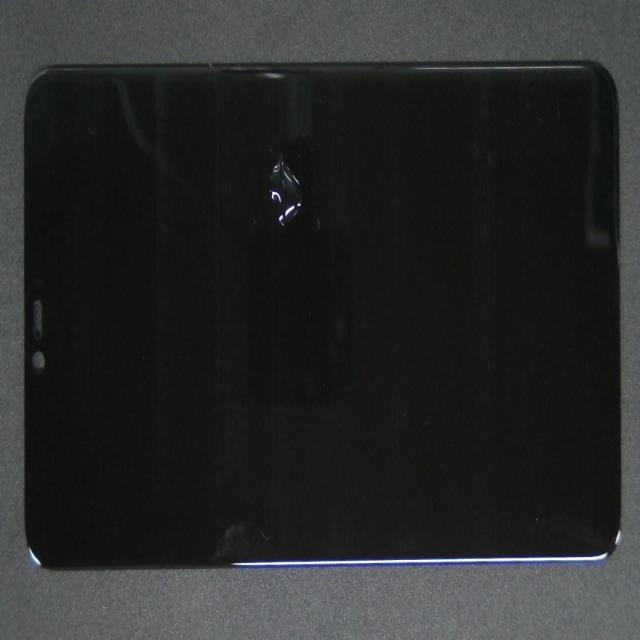oil: (151, 73, 403, 251)
